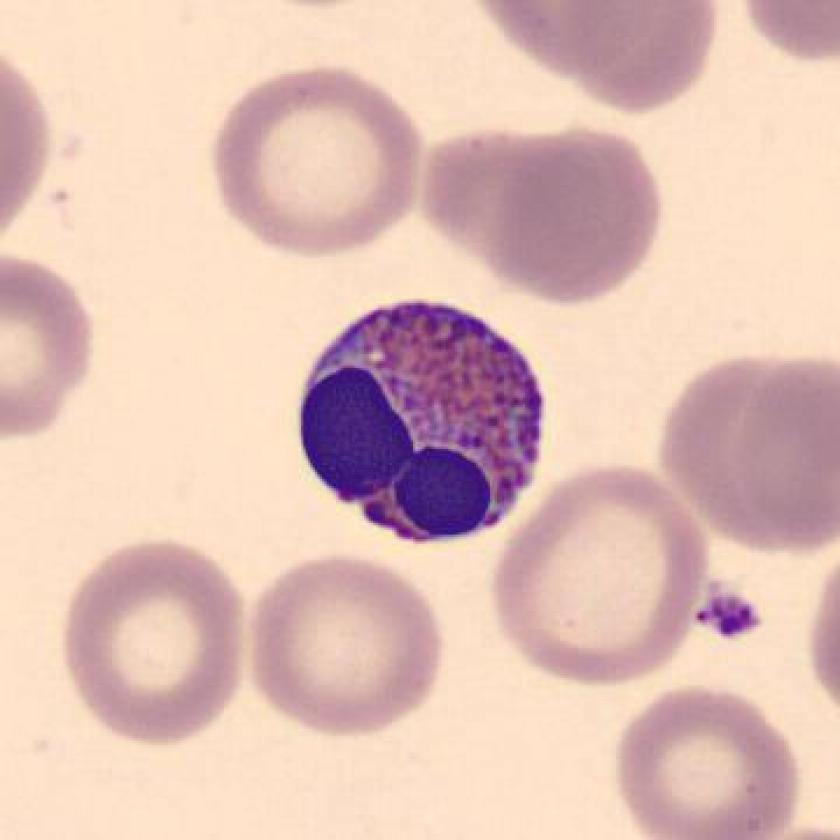eosinophil: (281, 288, 559, 561)
